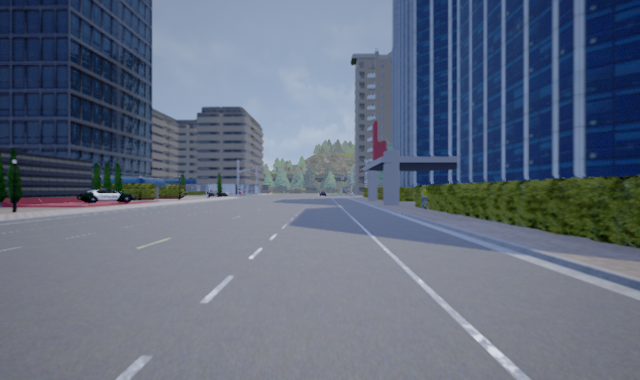pedestrian: (418, 184, 430, 209)
vehicle: (78, 188, 133, 204)
